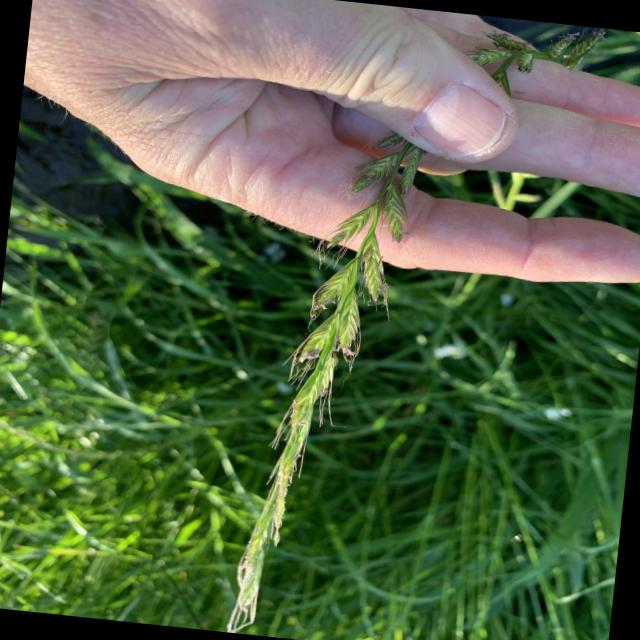Lolium: (220, 119, 429, 640)
